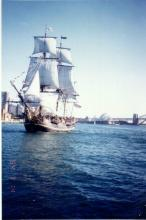fanchuan: (11, 25, 74, 134)
